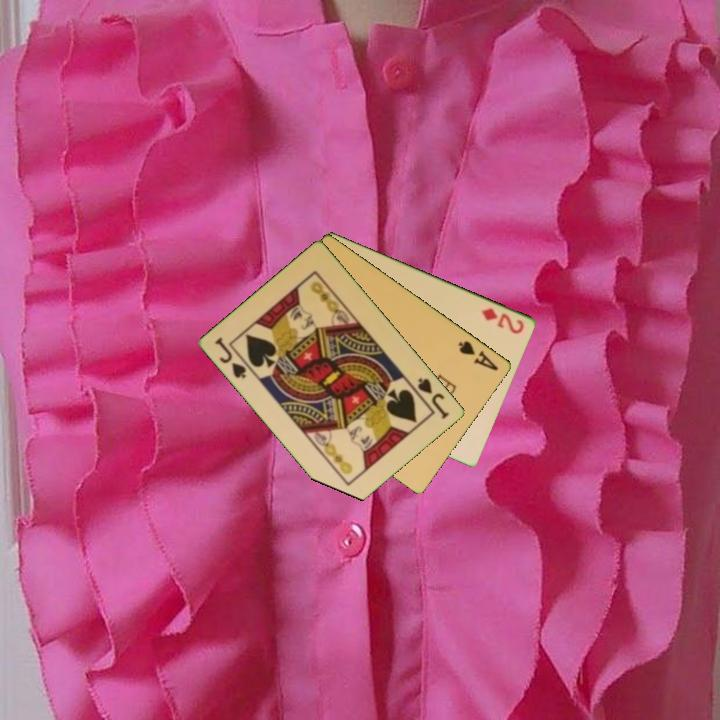2d: (478, 304, 527, 337)
As: (455, 337, 502, 374)
Js: (414, 374, 452, 422), (212, 334, 250, 382)
